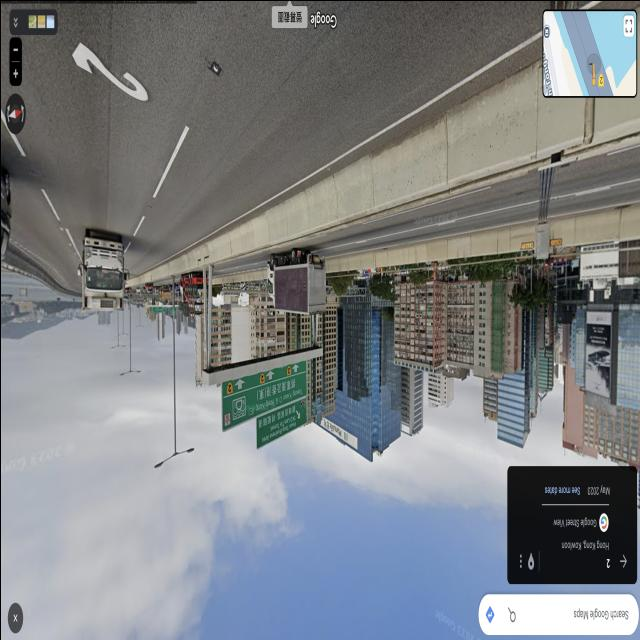Direction-Sign: (221, 359, 305, 431), (256, 396, 306, 448)
